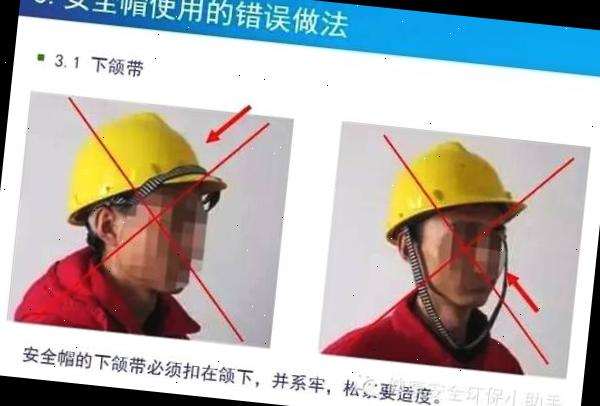helmet: (65, 104, 232, 240), (379, 134, 526, 250)
